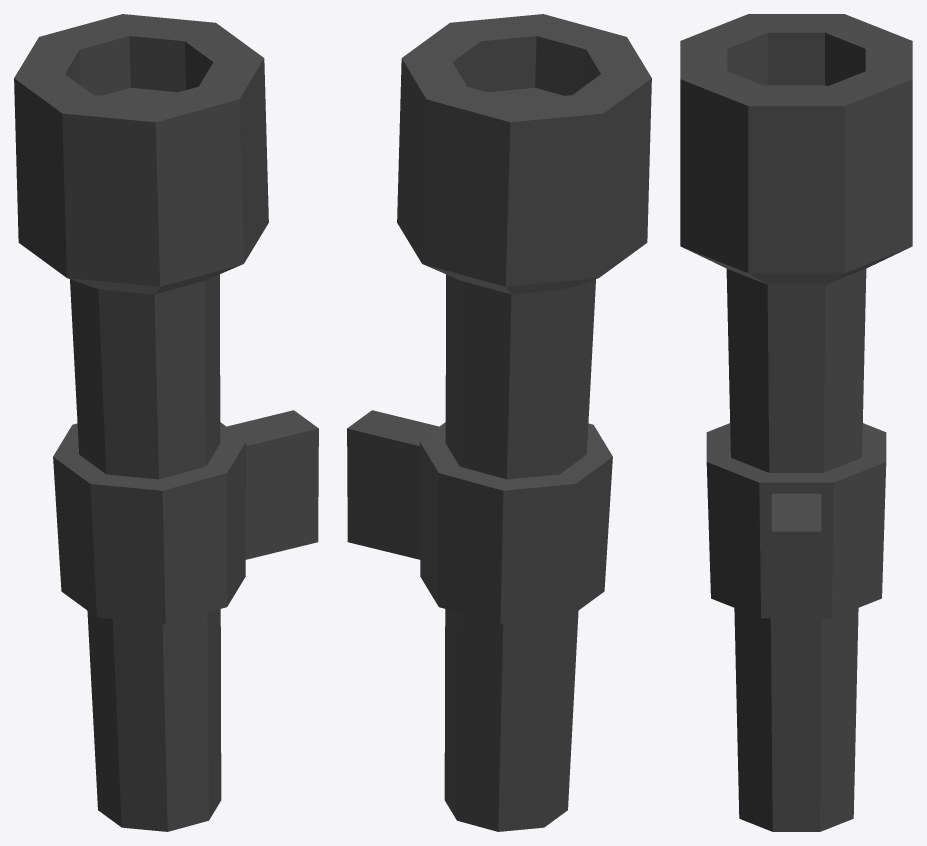
File: Lamp.fbx
3 renders of one model, left to right at view 1: azimuth 30°, elevation 25°; view 2: azimuth 150°, elevation 25°; view 3: azimuth 270°, elevation 25°, orthographic.
Visible parts, largest first — view 1: Lamp; view 2: Lamp; view 3: Lamp.
Part boxes in pixels (x1=…): Lamp: x1=14, y1=14, x2=318, y2=831; Lamp: x1=347, y1=14, x2=651, y2=831; Lamp: x1=680, y1=14, x2=912, y2=831.
Bounding box in the file's own units: 32.26 × 85.83 × 24.31.
